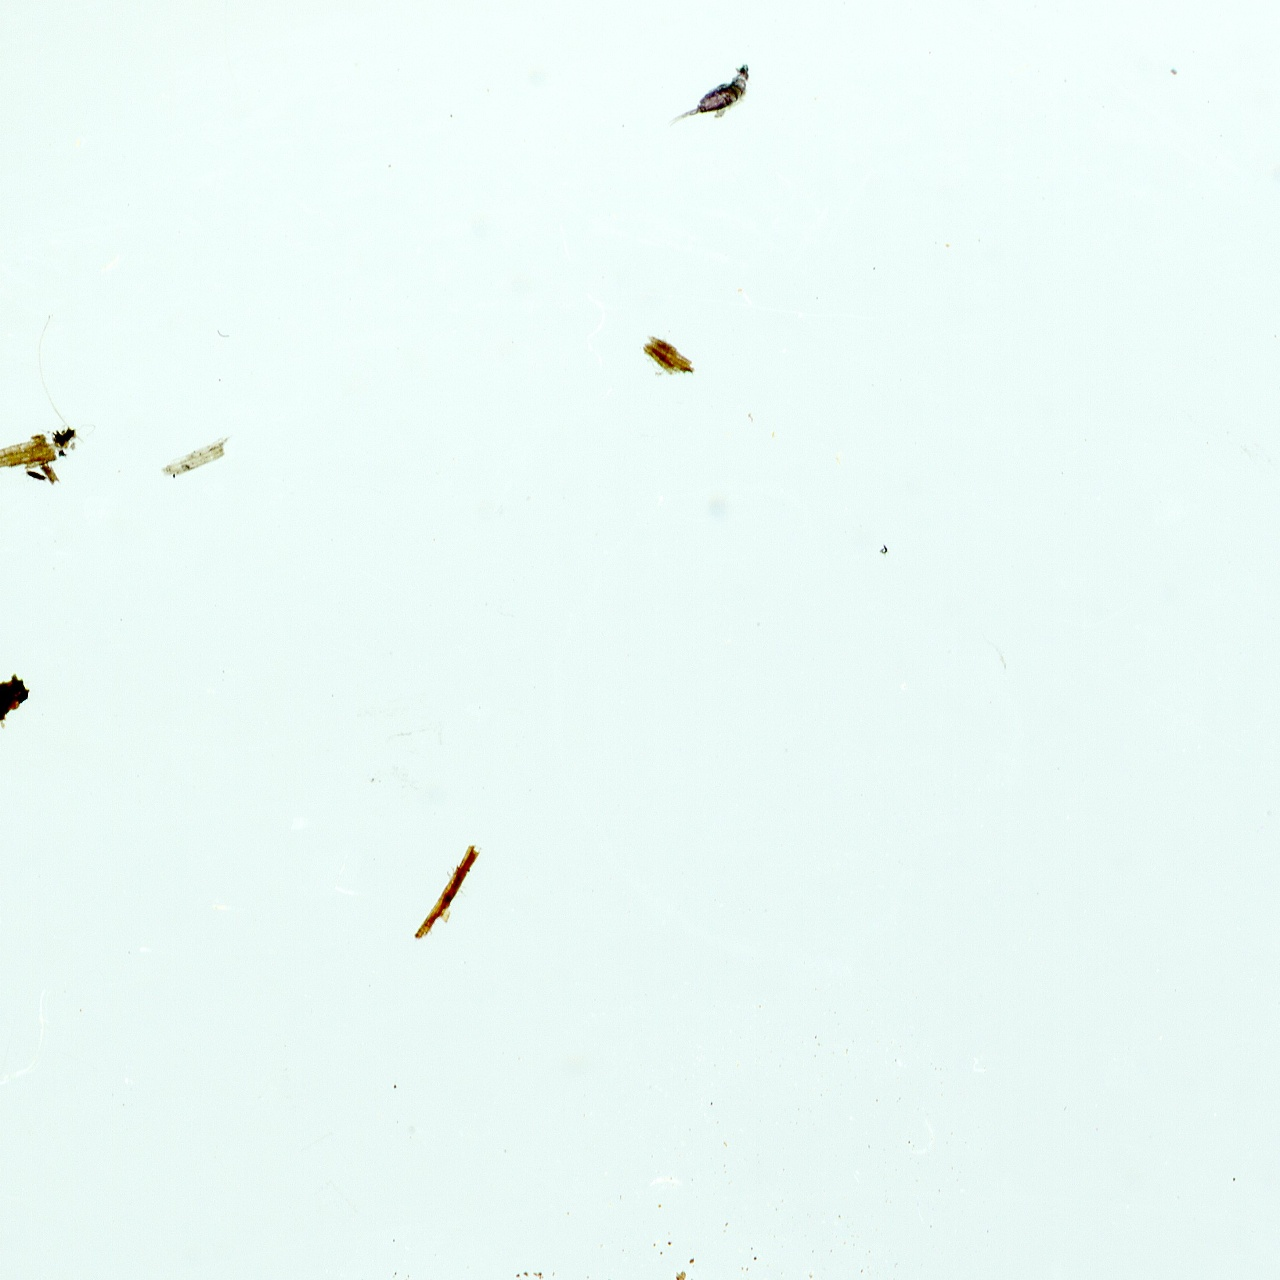arthropod: (656, 43, 769, 161)
